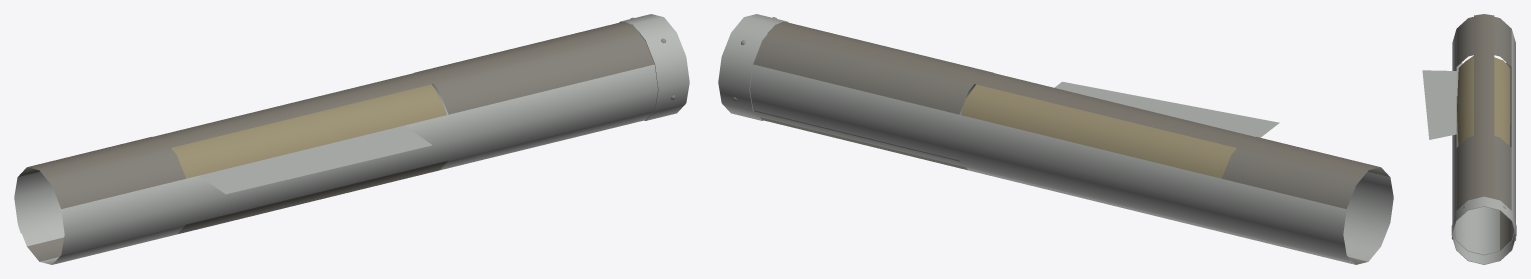
File: pipe_run@3.glb
3 renders of one model, left to right at view 1: azimuth 30°, elevation 25°; view 2: azimuth 150°, elevation 25°; view 3: azimuth 270°, elevation 25°, orthographic. The views are drawn at different scales.
Visible parts, largest first — view 1: pipe0, pipe1, pipe4, pipe2; view 2: pipe0, pipe1, pipe4, pipe2; view 3: pipe0, pipe1, pipe4, pipe2.
Part boxes in pixels (x1,y1,x2,y2): pipe0: (14, 14, 689, 264); pipe1: (18, 22, 654, 261); pipe4: (32, 21, 640, 177); pipe2: (171, 84, 446, 178); pipe0: (718, 14, 1393, 264); pipe1: (753, 22, 1389, 264); pipe4: (767, 21, 1375, 177); pipe2: (961, 84, 1236, 178); pipe0: (1422, 29, 1516, 264); pipe1: (1456, 17, 1511, 250); pipe4: (1474, 14, 1494, 198); pipe2: (1457, 56, 1510, 145).
Size of the model in its own units: 1 by 0.1436 by 0.2068.
